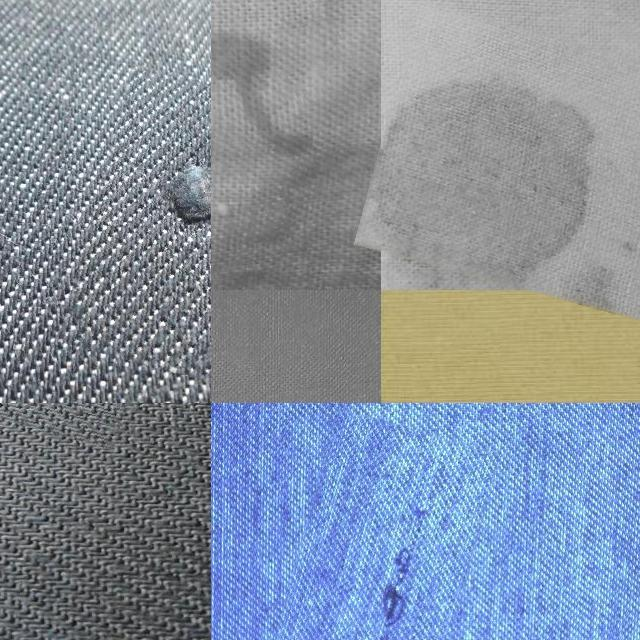Thread_other: (367, 18, 640, 308)
stains: (256, 414, 476, 640), (75, 75, 211, 383)
